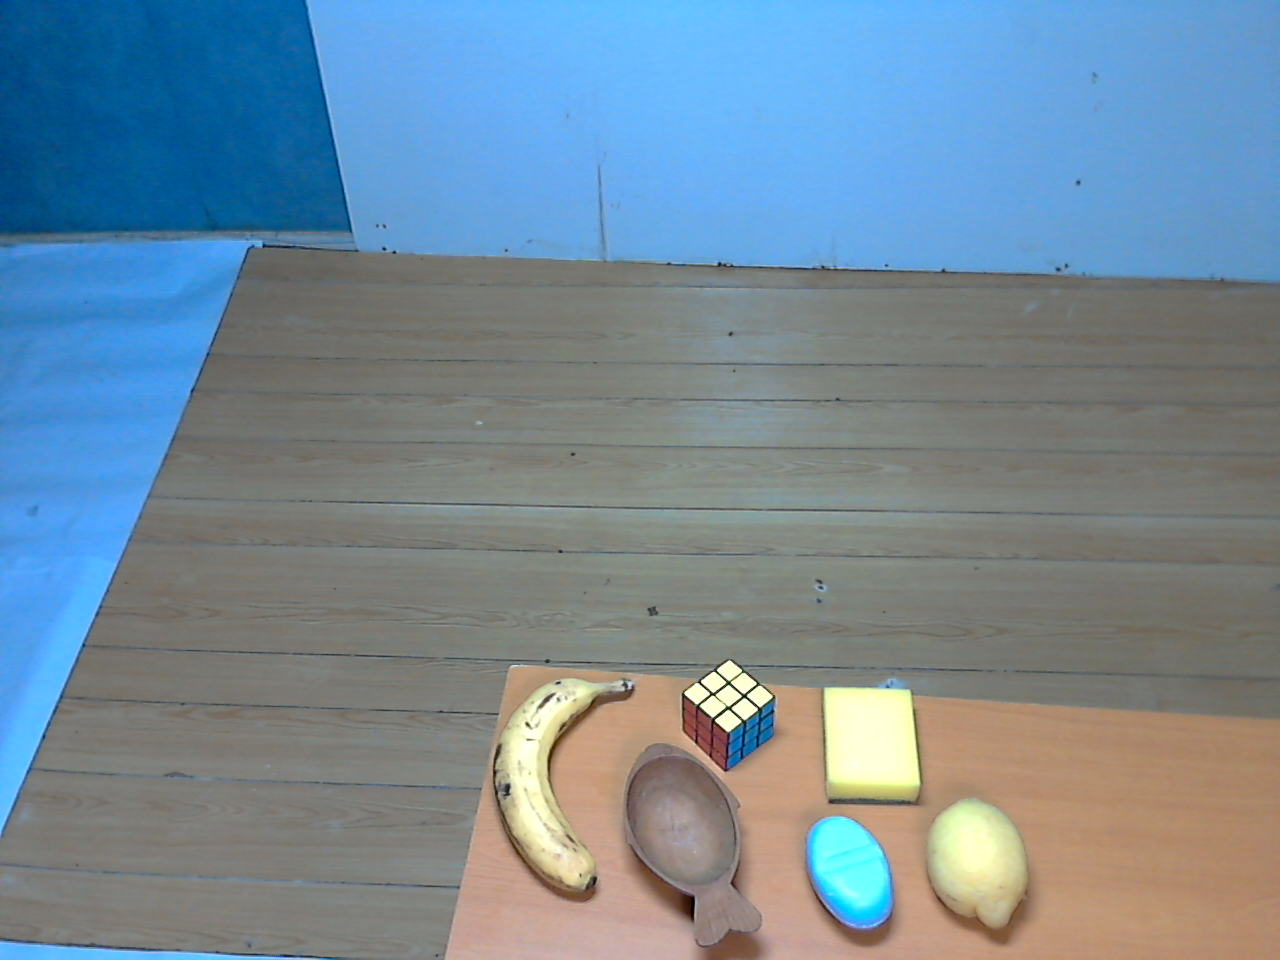cubix: (671, 650, 785, 778)
esponja: (811, 680, 930, 814)
jabon: (795, 806, 911, 947)
limon: (913, 786, 1048, 944)
pescado: (616, 736, 780, 957)
platano: (482, 657, 641, 910)
